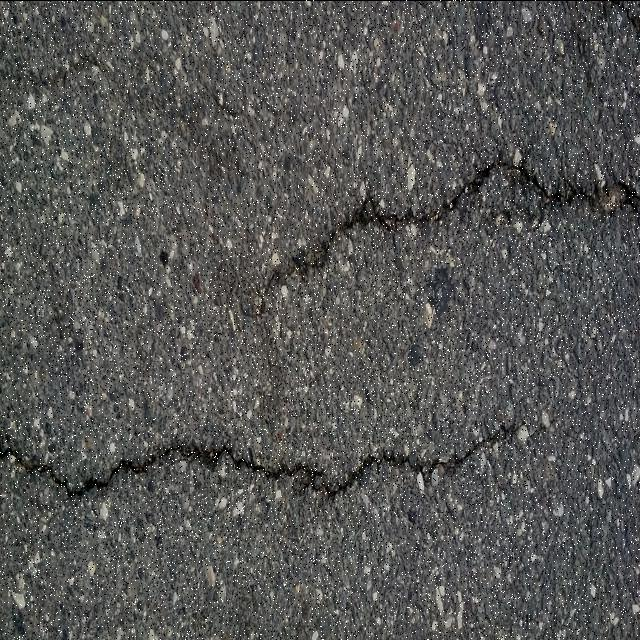Crack: (248, 160, 640, 319), (0, 420, 529, 499)
